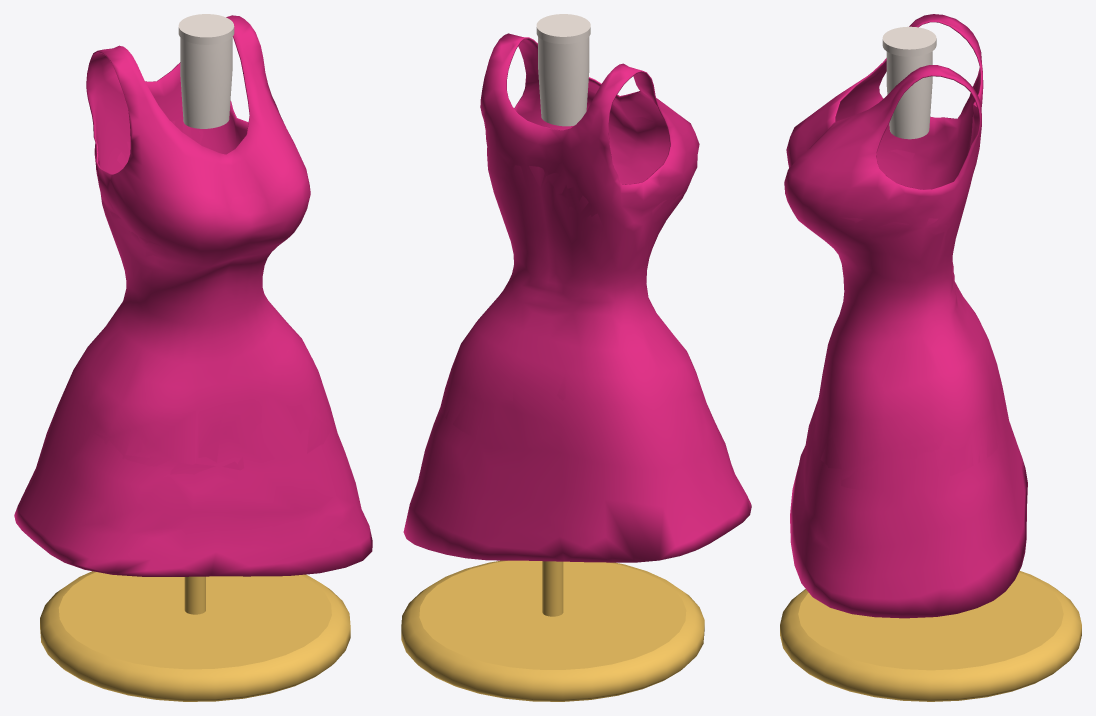
File: rain.dress.rose-flare.glb
The picture shows the model from 3 angles, left to right: view 1: azimuth 30°, elevation 25°; view 2: azimuth 150°, elevation 25°; view 3: azimuth 270°, elevation 25°; orthographic projection. The views are drawn at different scales.
Visible parts, largest first — view 1: Tailored.Dress.rose-flare.Fabric, stand_base, stand_torso, stand_neck_cap, stand_stem; view 2: Tailored.Dress.rose-flare.Fabric, stand_base, stand_torso, stand_neck_cap, stand_stem; view 3: Tailored.Dress.rose-flare.Fabric, stand_base, stand_torso, stand_neck_cap.
Part boxes in pixels (x1,y1,x2,y2): Tailored.Dress.rose-flare.Fabric: [14, 15, 372, 576]; stand_base: [40, 571, 350, 701]; stand_torso: [180, 37, 232, 128]; stand_neck_cap: [178, 14, 234, 44]; stand_stem: [184, 576, 205, 614]; Tailored.Dress.rose-flare.Fabric: [403, 33, 751, 562]; stand_base: [401, 560, 704, 701]; stand_torso: [538, 37, 589, 126]; stand_neck_cap: [536, 14, 590, 44]; stand_stem: [542, 561, 563, 616]; Tailored.Dress.rose-flare.Fabric: [784, 14, 1027, 618]; stand_base: [780, 571, 1081, 701]; stand_torso: [886, 51, 932, 139]; stand_neck_cap: [882, 26, 936, 56].
Bounding box in the file's own units: 0.3915 × 0.75 × 0.3383.
